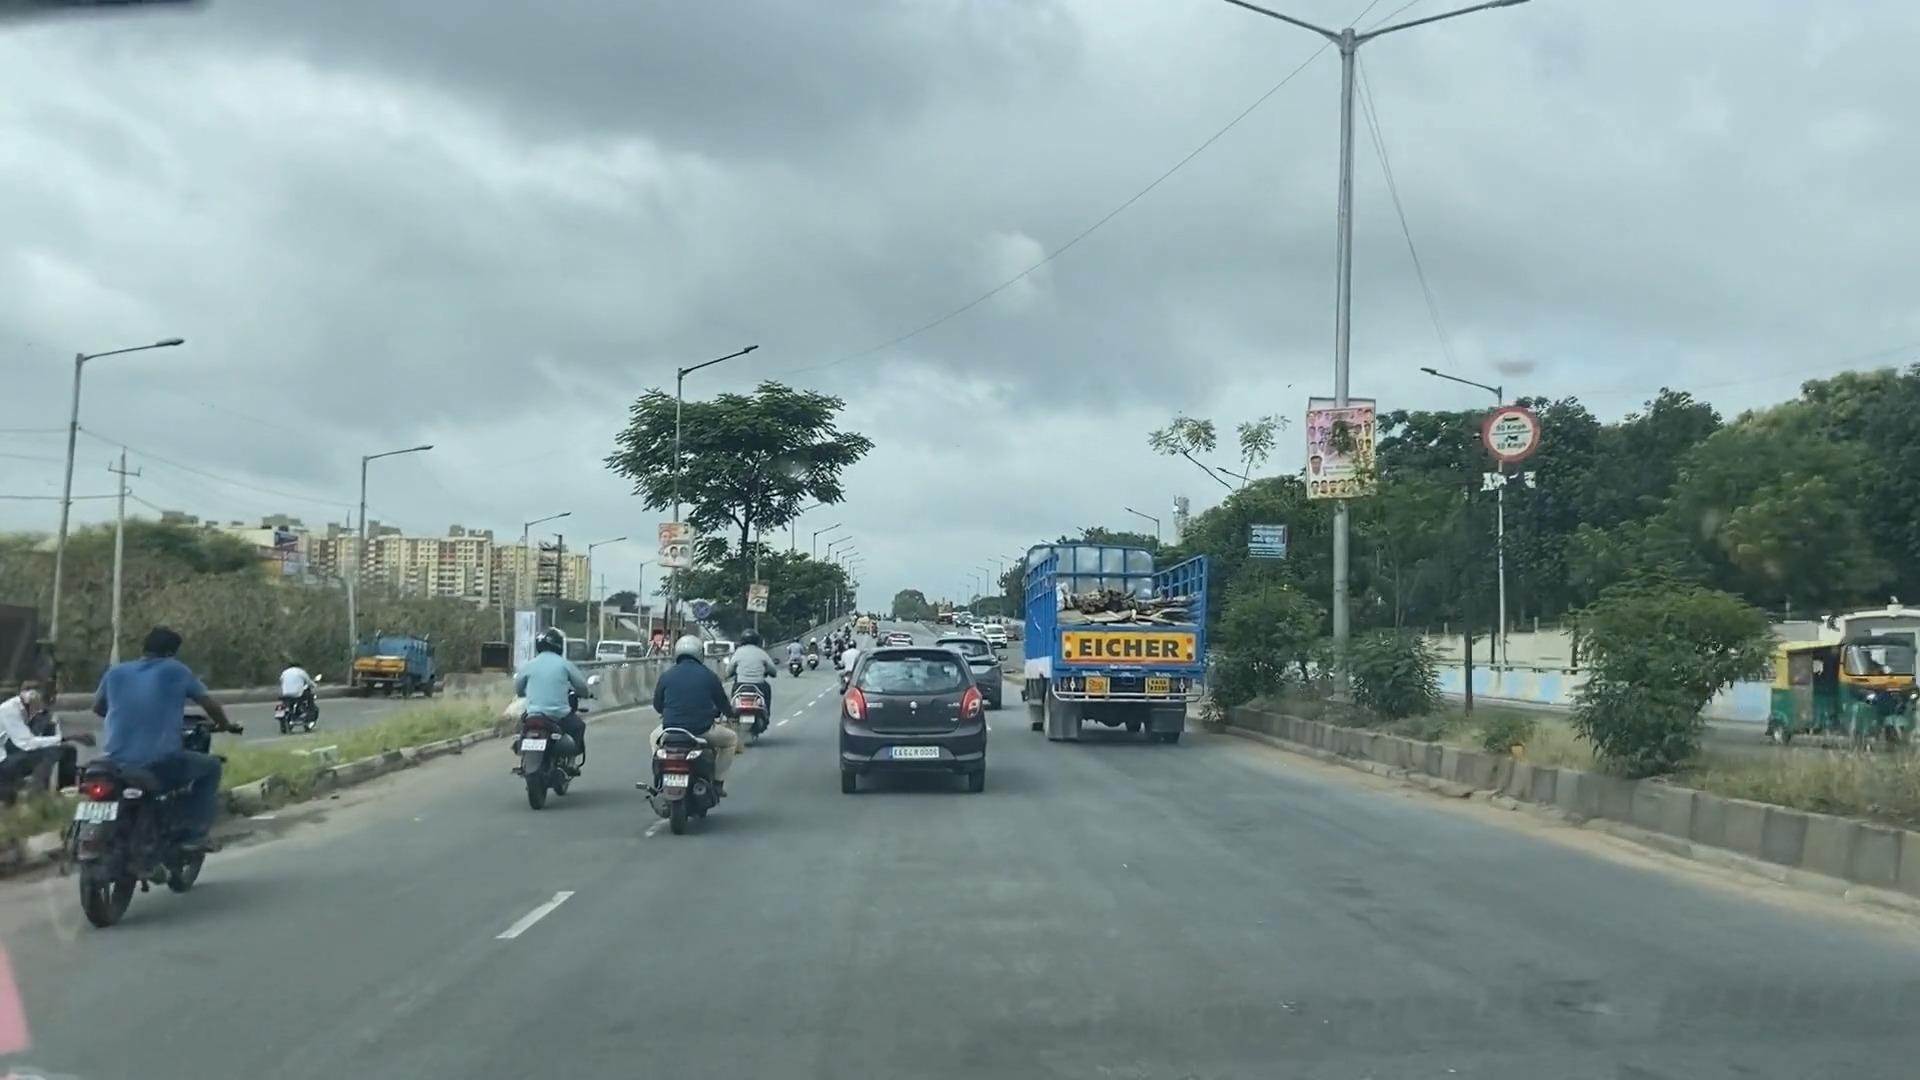HMV: (1030, 541, 1188, 742)
LMV: (67, 626, 241, 930), (847, 644, 980, 783), (650, 637, 724, 808), (520, 626, 587, 790)
